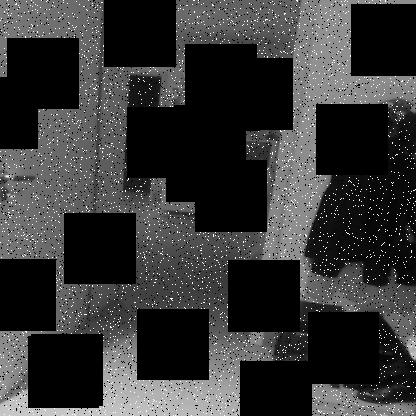Porte: (0, 0, 320, 403)
